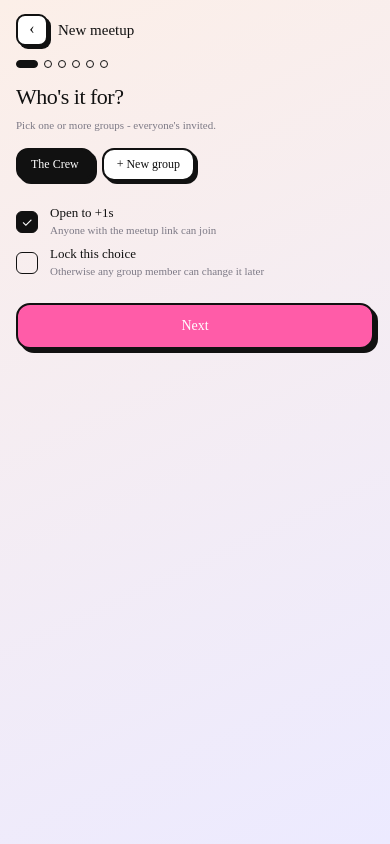
Test: confirm summary matches the time x activity x lock matrix › locked single time but open activity: it's on, the group picks what to do
Expected: the text "Who's it for?" is shown, [16, 84, 123, 109]
Click the text "Next" at {"x": 195, "y": 326}, box [181, 318, 209, 334]
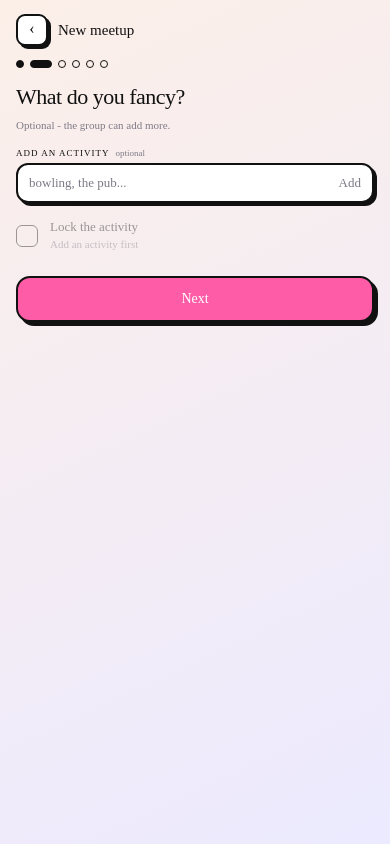
Result: the text "What do you fancy?" is shown at [16, 84, 185, 109]
Click the text "Next" at {"x": 195, "y": 299}, box [181, 291, 209, 307]
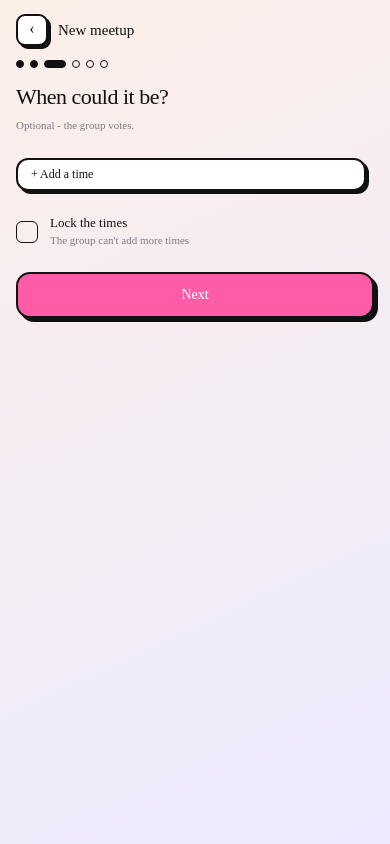
Result: the text "When could it be?" is shown at [16, 84, 168, 109]
Click the text "Lock the times" at {"x": 89, "y": 222}, box [50, 215, 127, 230]
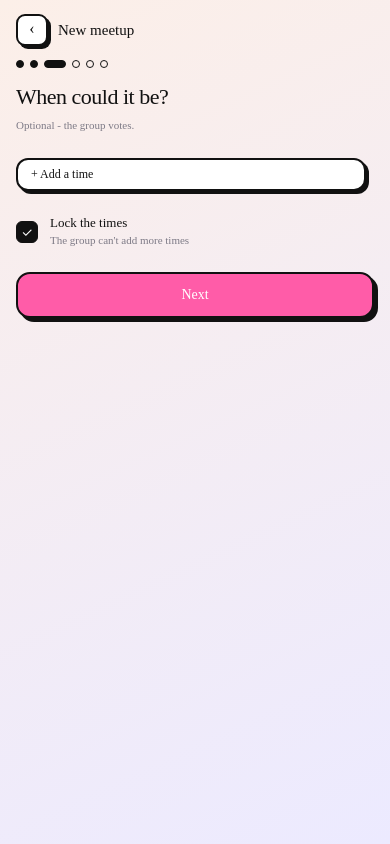
Click the text "Next" at {"x": 195, "y": 295}, box [181, 287, 209, 303]
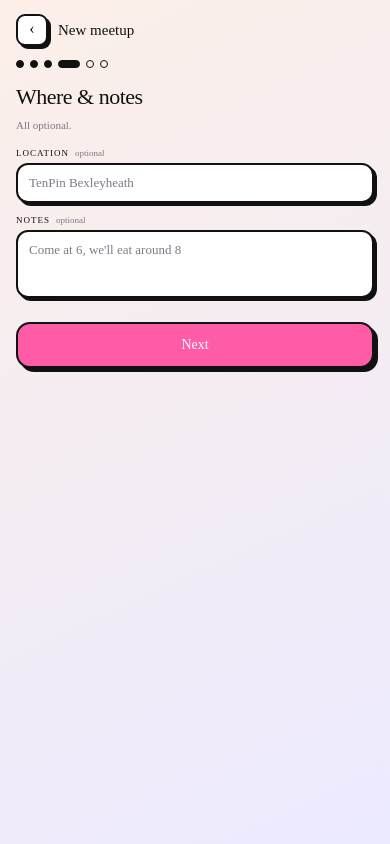
Result: the text "Where & notes" is shown at [16, 84, 143, 109]
Click the text "Next" at {"x": 195, "y": 345}, box [181, 337, 209, 353]
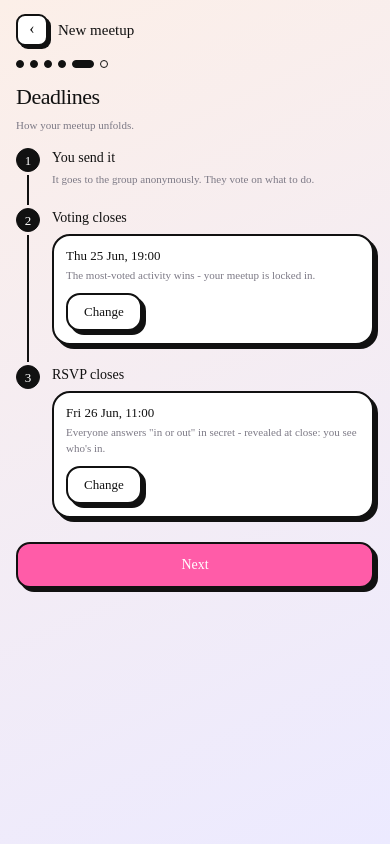
Result: the text "Deadlines" is shown at [16, 84, 100, 109]
Click the text "Next" at {"x": 195, "y": 565}, box [181, 557, 209, 573]
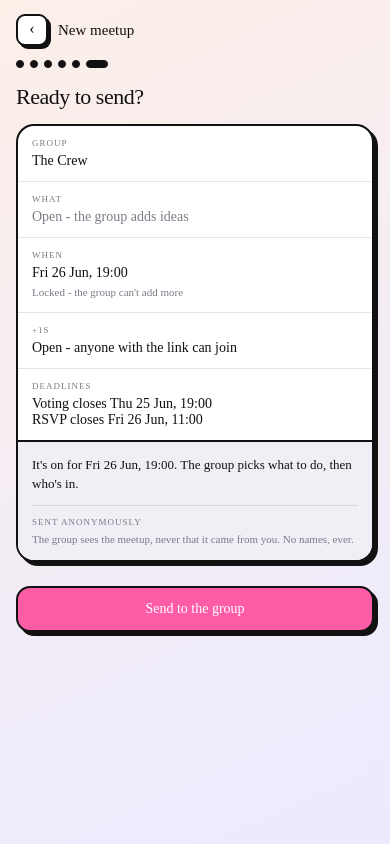
Result: the text "Ready to send?" is shown at [16, 84, 143, 109]
Result: the text "It's on for" shows "The group picks what to do, then who's in." at [32, 457, 355, 491]
